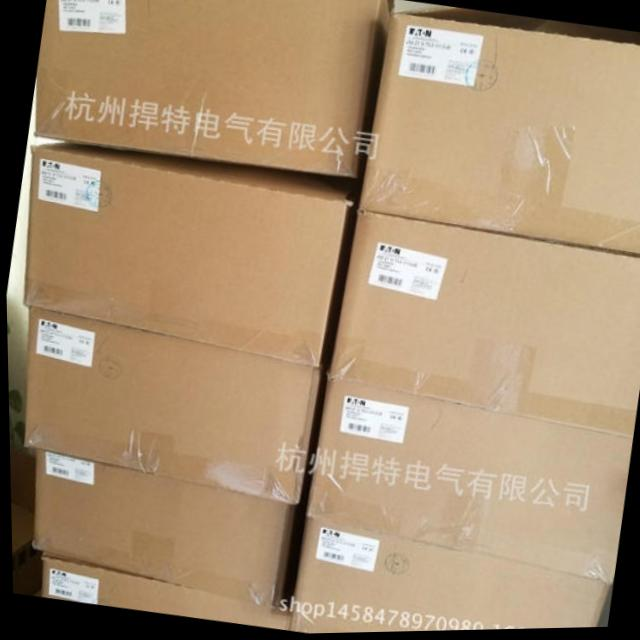box: (23, 143, 354, 369), (327, 213, 640, 441), (358, 16, 640, 259), (302, 380, 631, 587), (34, 0, 390, 180), (21, 306, 322, 509), (30, 450, 292, 614), (285, 520, 609, 635), (36, 552, 287, 632)
